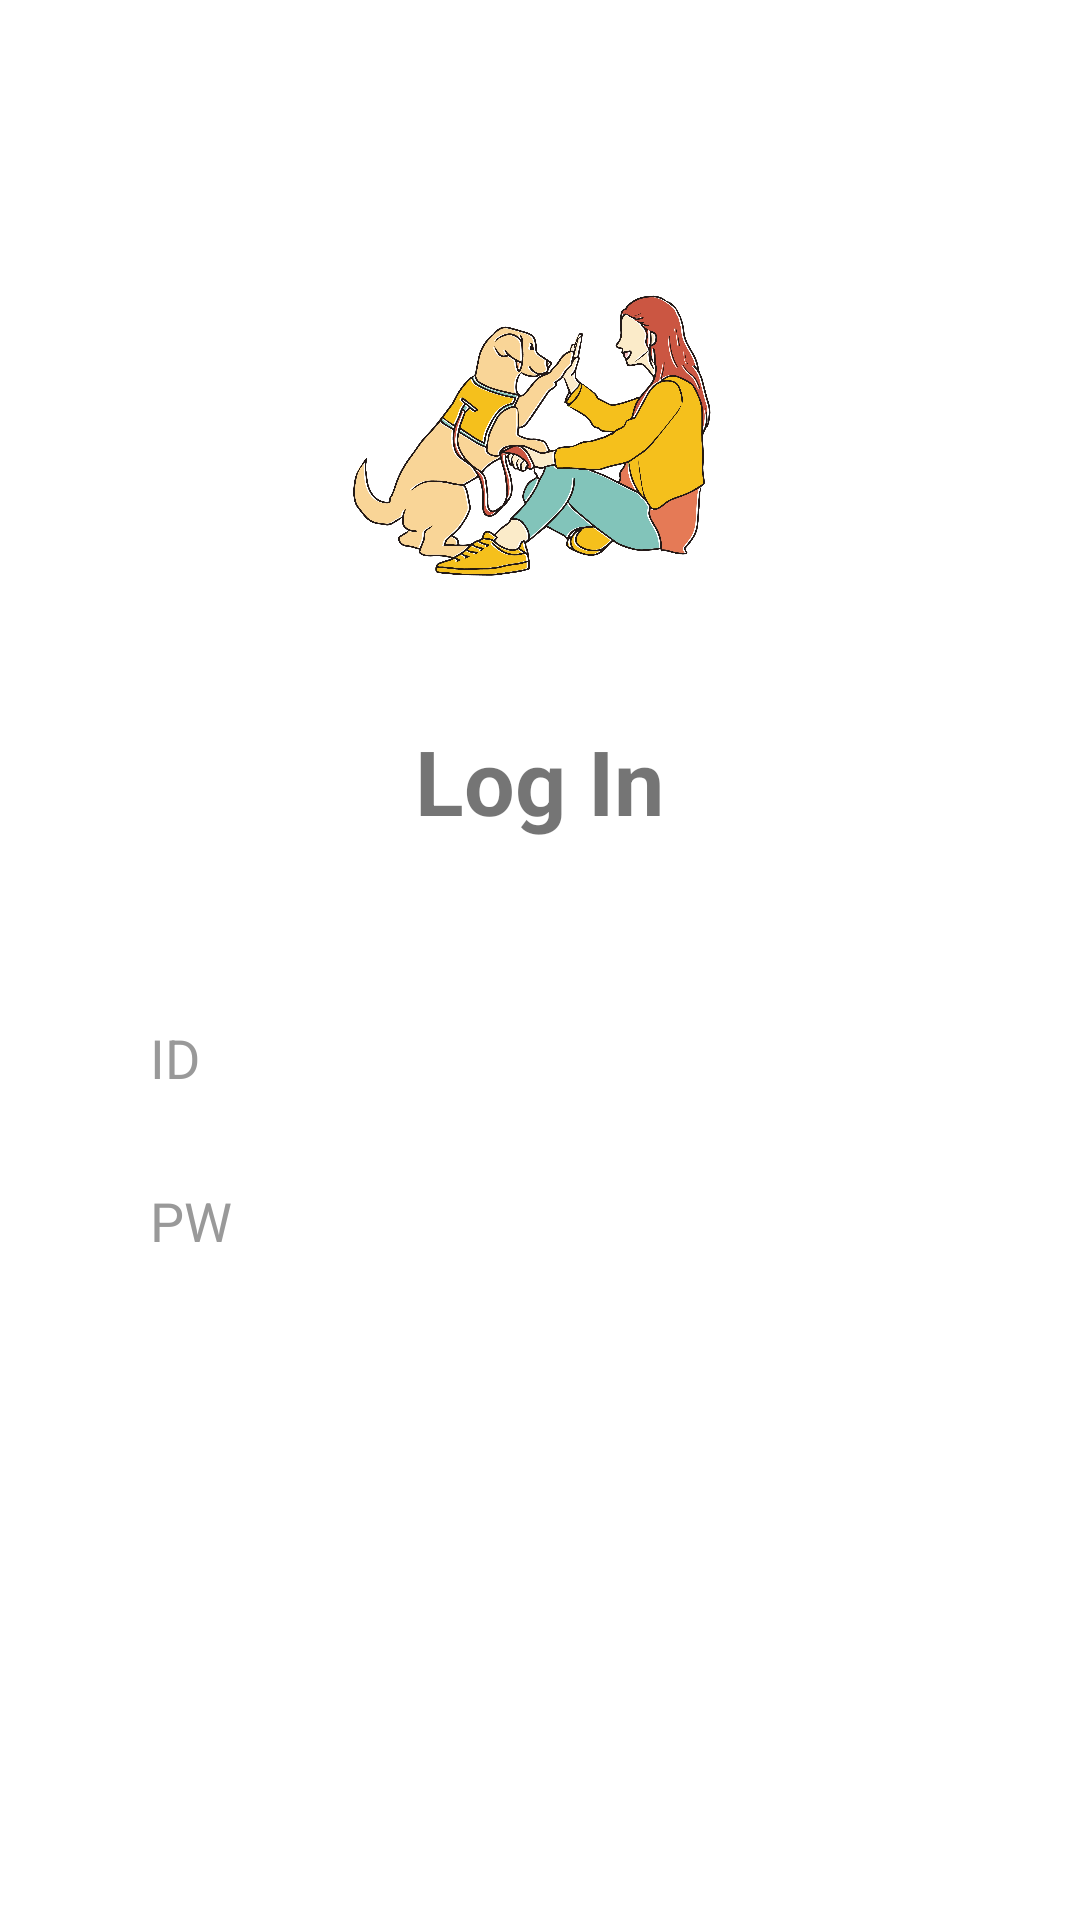

Icon click points for this 1080w x 1920h phone screenshot, format (x,y):
mainpicture: (532,435)
